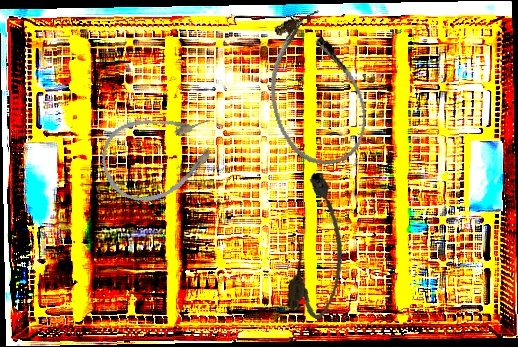Cannula: (251, 5, 378, 176), (93, 99, 226, 213), (284, 169, 354, 322)
